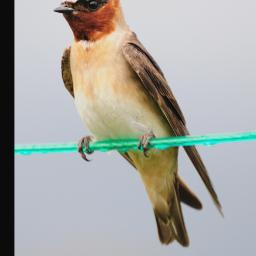Swallow: (52, 0, 225, 249)
